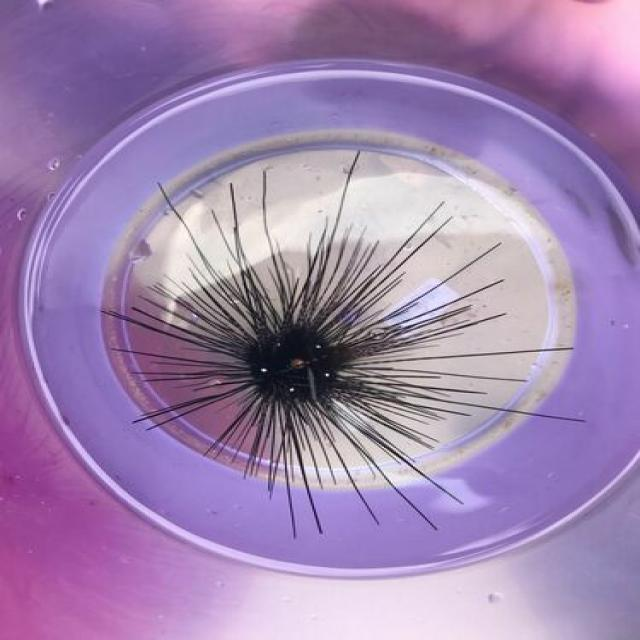Urchin: (94, 150, 585, 539)
